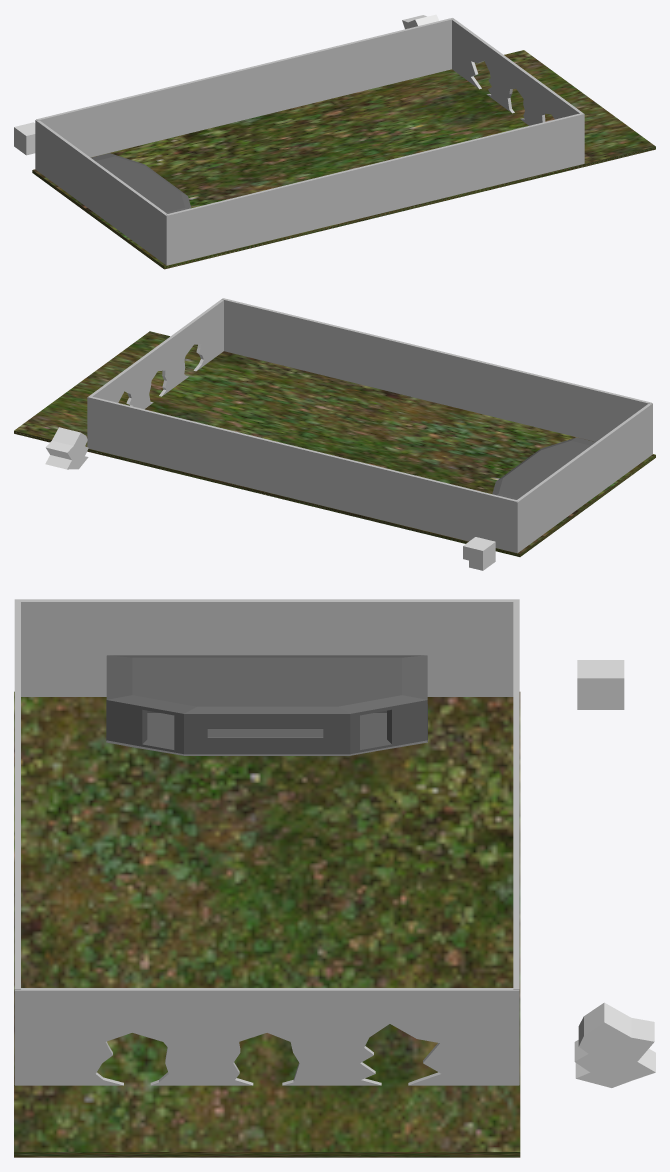
File: Map1.fbx
3 renders of one model, top to bottom at view 1: azimuth 30°, elevation 25°; view 2: azimuth 150°, elevation 25°; view 3: azimuth 270°, elevation 25°, orthographic. The views are drawn at different scales.
Parts seen in each view (by area): view 1: Floor, RightWall, LeftWall, BackWall, FrontWallWithBreaks, Bunker, BunkerCutoutTool; view 2: Floor, LeftWall, RightWall, BackWall, FrontWallWithBreaks, Bunker, CutoutTool, BunkerCutoutTool; view 3: Floor, FrontWallWithBreaks, BackWall, Bunker, CutoutTool, RightWall, LeftWall, BunkerCutoutTool.
Boxes of the visible parts, <box> form: Floor: <box>32,50,655,269</box>; RightWall: <box>166,113,584,265</box>; LeftWall: <box>36,18,453,157</box>; BackWall: <box>35,120,167,265</box>; FrontWallWithBreaks: <box>452,18,584,163</box>; Bunker: <box>91,153,191,213</box>; BunkerCutoutTool: <box>14,122,35,155</box>; Floor: <box>14,331,655,556</box>; LeftWall: <box>88,396,517,552</box>; RightWall: <box>222,298,651,441</box>; BackWall: <box>516,403,652,553</box>; FrontWallWithBreaks: <box>87,298,223,447</box>; Bunker: <box>492,437,595,499</box>; CutoutTool: <box>45,427,88,469</box>; BunkerCutoutTool: <box>463,537,495,570</box>; Floor: <box>14,691,520,1157</box>; FrontWallWithBreaks: <box>15,988,519,1085</box>; BackWall: <box>21,599,513,696</box>; Bunker: <box>106,655,427,755</box>; CutoutTool: <box>574,1002,655,1087</box>; RightWall: <box>14,599,20,1084</box>; LeftWall: <box>513,599,519,1084</box>; BunkerCutoutTool: <box>577,660,624,709</box>.
Size of the model in its own units: 34541 by 3546 by 20367.
